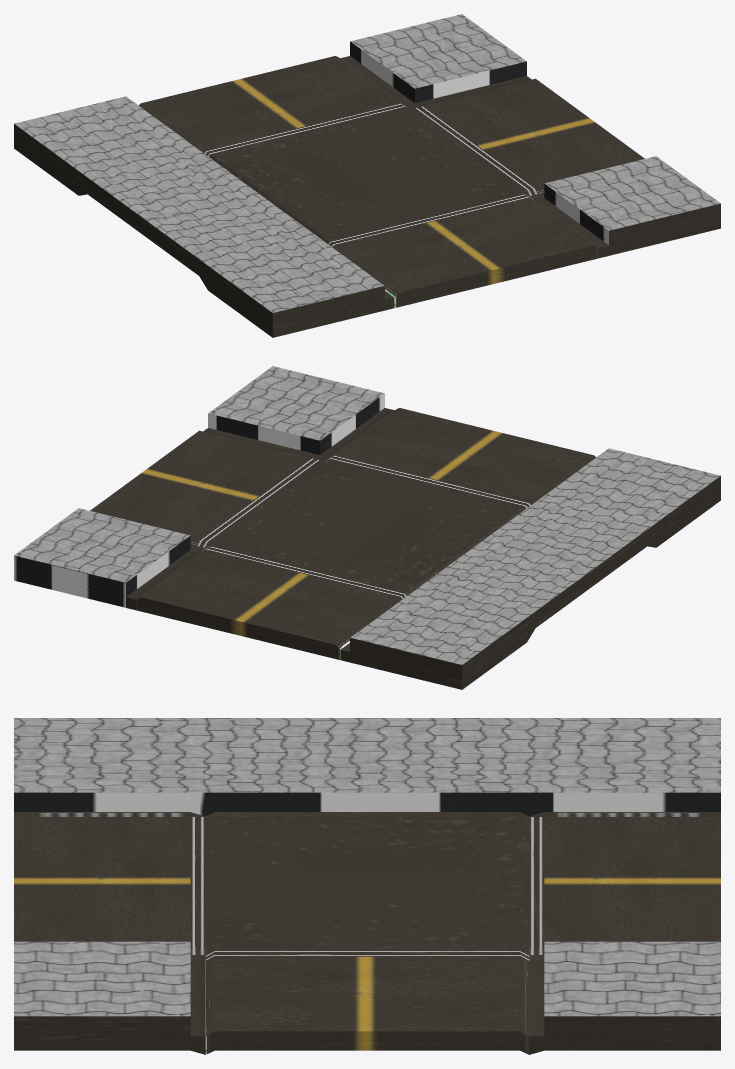
Rendered from ModularCentRoad.fbx.
The picture shows the model from 3 angles, top to bottom: view 1: azimuth 30°, elevation 25°; view 2: azimuth 150°, elevation 25°; view 3: azimuth 270°, elevation 25°; orthographic projection. The views are drawn at different scales.
Parts seen in each view (by area): view 1: ModularCentRoad; view 2: ModularCentRoad; view 3: ModularCentRoad.
Part boxes in pixels (x1,y1,x2,y2): ModularCentRoad: (14, 14, 720, 337); ModularCentRoad: (14, 366, 720, 689); ModularCentRoad: (14, 718, 720, 1054).
Bounding box in the file's own units: 32.7 × 1.96 × 32.7.
1 material, 1 textured.
